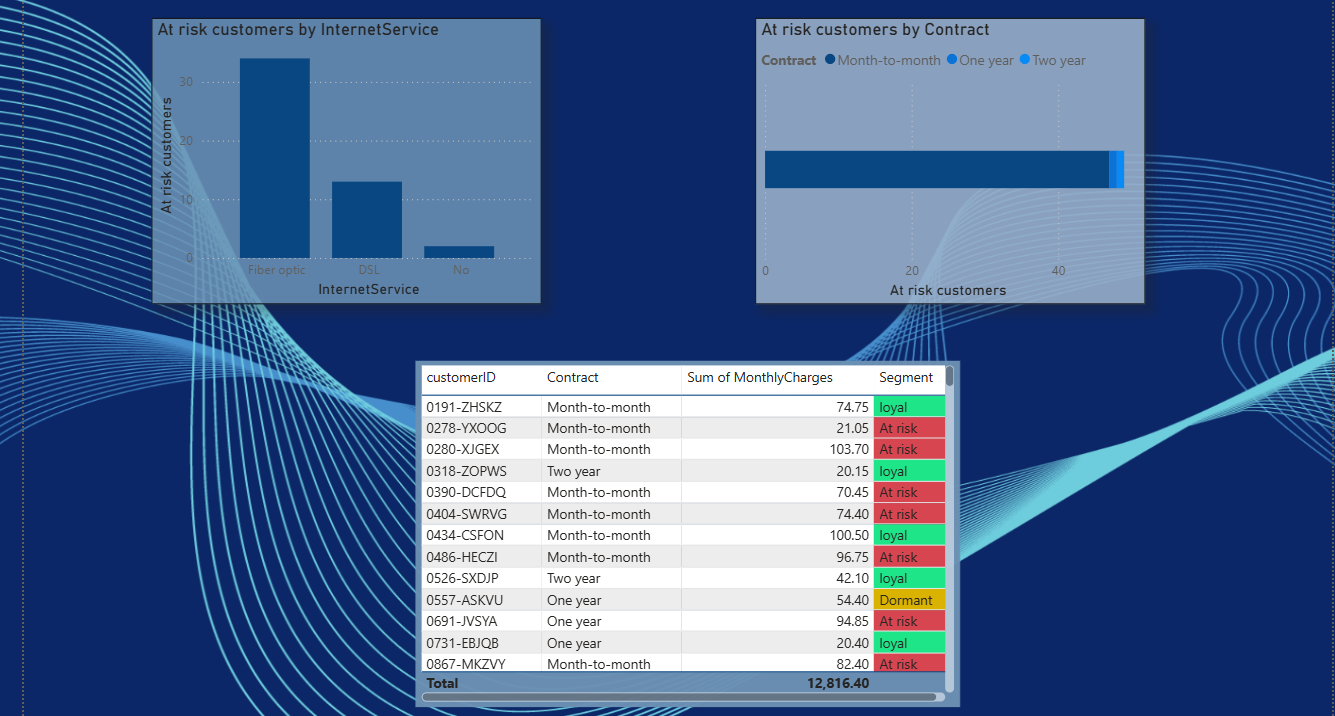

The dashboard page shown, as its layout file describes it:
{"tool":"powerbi","page":{"name":"Page 2","canvas":[1280,720],"ordinal":1},"visuals":[{"type":"columnChart","fields":{"Category":["telecom_customers.InternetService"],"Y":["telecom_customers.At risk customers"]},"box":[124.9,24.7,381.5,279.9],"z":0},{"type":"tableEx","fields":{"Values":["telecom_customers.customerID","telecom_customers.Contract","Sum(telecom_customers.MonthlyCharges)","telecom_customers.Segment"]},"box":[382.8,359.5,532.4,338.9],"z":1000},{"type":"barChart","fields":{"Series":["telecom_customers.Contract"],"Y":["telecom_customers.At risk customers"]},"box":[714.9,24.7,381.5,279.9],"z":2000}]}

Visuals, with their boxes in screenshot pixels (x1, y1, x2, y2):
columnChart - telecom_customers.InternetService x telecom_customers.At risk customers: crop(151, 18, 539, 303)
tableEx - telecom_customers.customerID x telecom_customers.Contract: crop(414, 359, 955, 703)
barChart - telecom_customers.Contract x telecom_customers.At risk customers: crop(751, 18, 1139, 303)
